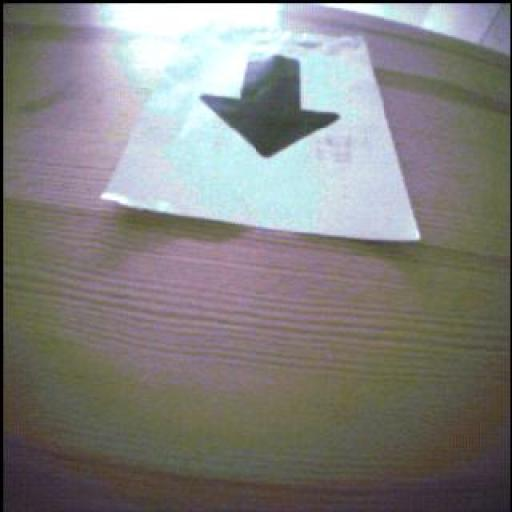arrow: (203, 57, 340, 158)
